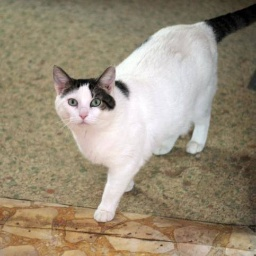cat: (47, 7, 230, 220)
